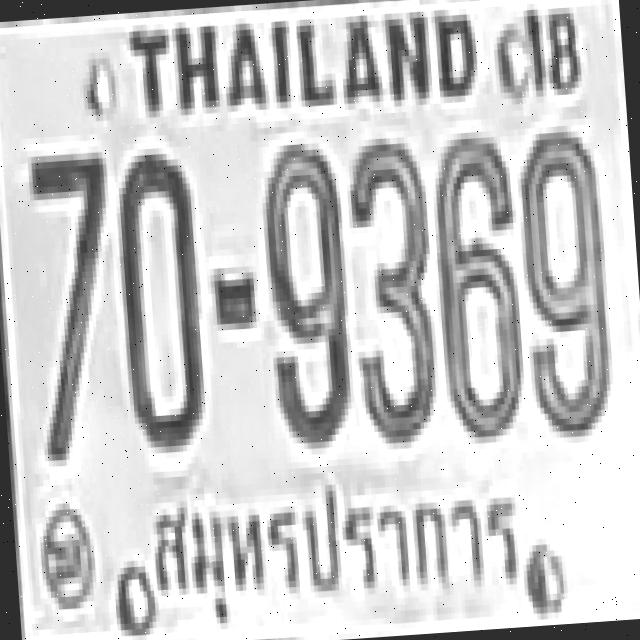0: (110, 146, 206, 448)
3: (342, 132, 441, 442)
6: (426, 130, 526, 438)
7: (24, 146, 120, 460)
9: (514, 124, 612, 432), (258, 136, 354, 444)
SamutPrakan: (134, 462, 528, 630)
